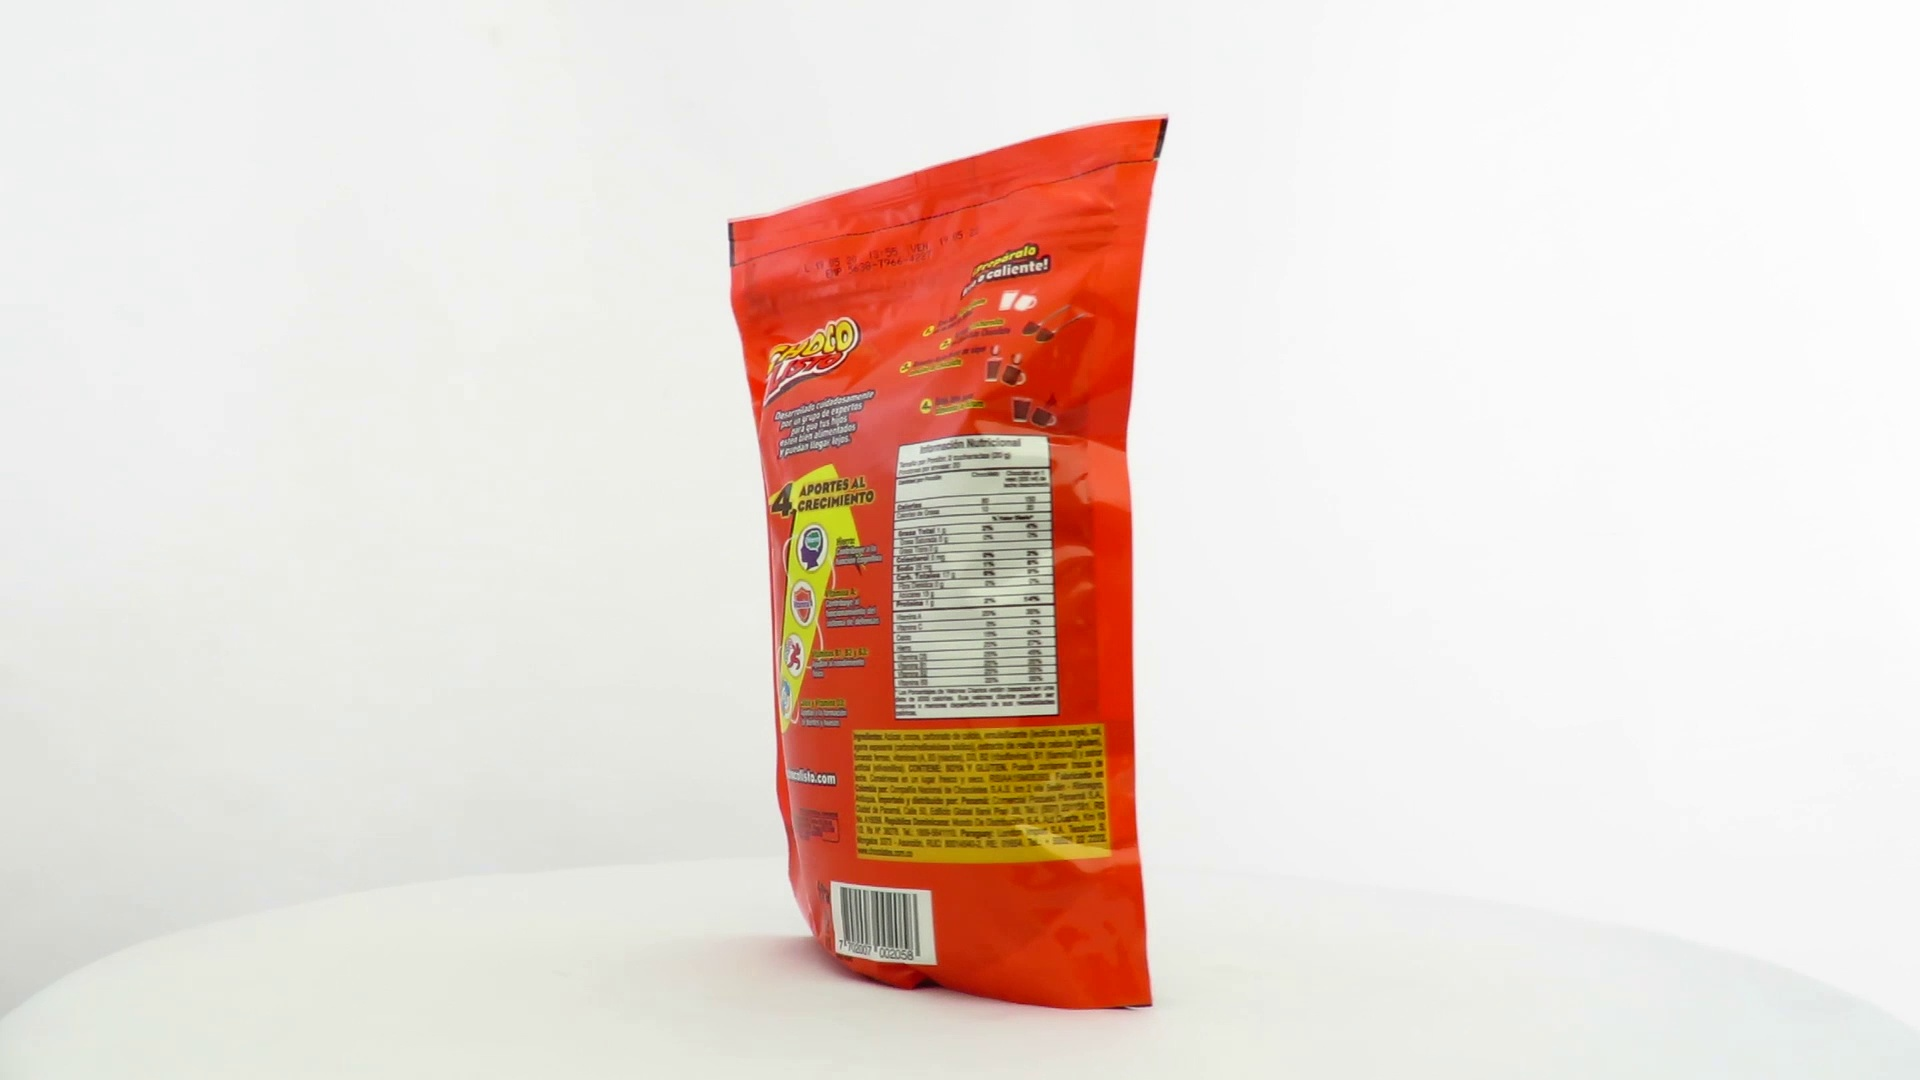COL0170103DYP40000: (702, 113, 1174, 1017)
